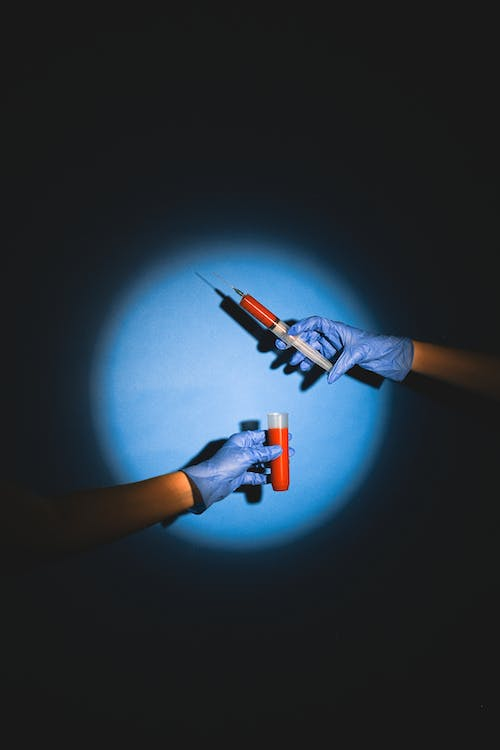blood: (235, 290, 281, 333), (264, 425, 291, 493)
